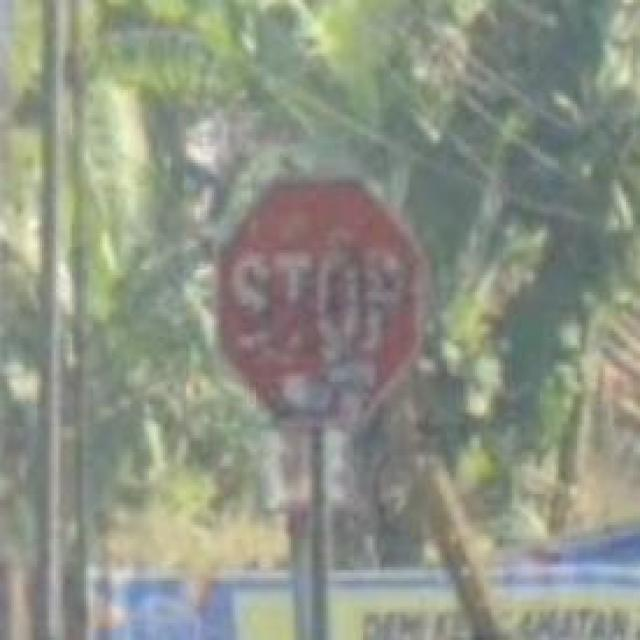traffic sign: (221, 177, 416, 432)
